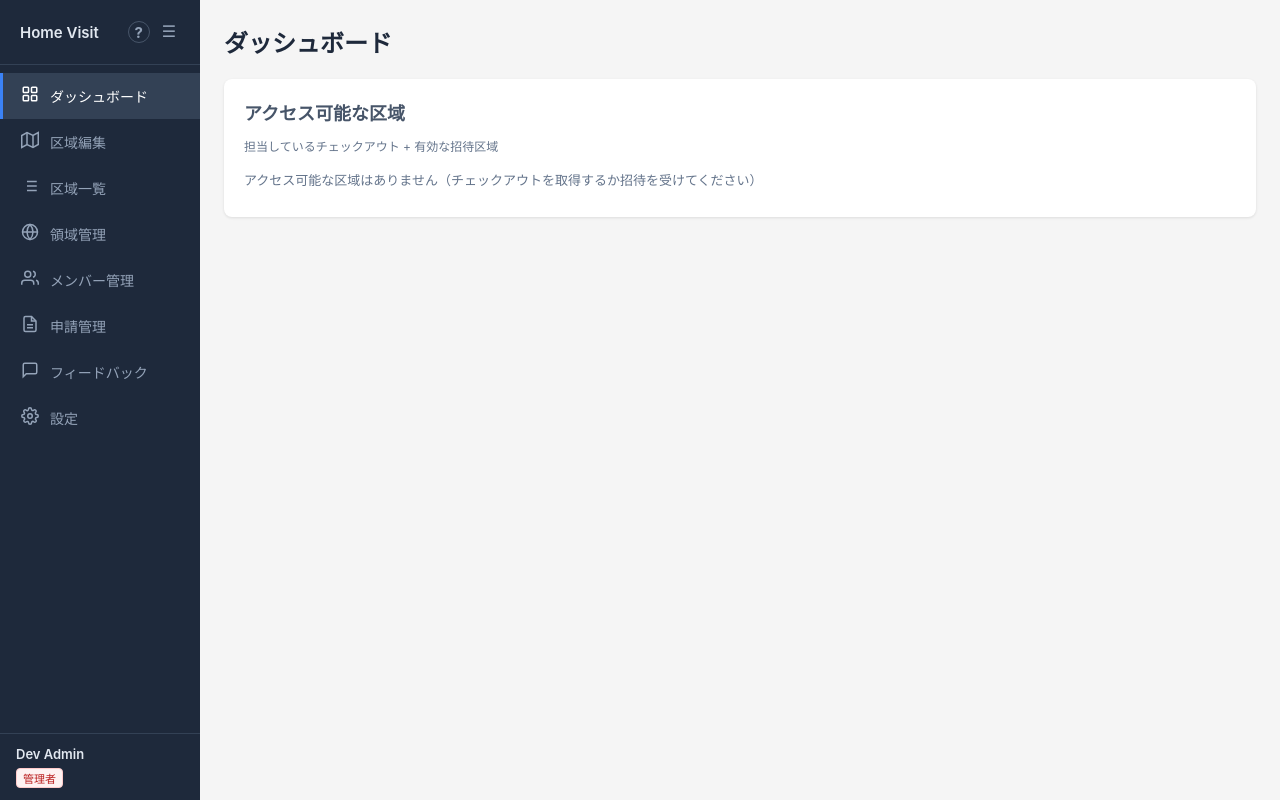
Test case: App › 設定画面でアイデンティティを member に切替えるとメニューが絞られる
Click the link "設定" at (50, 417), box left=21, top=407, right=78, bottom=427
(page scrolled)
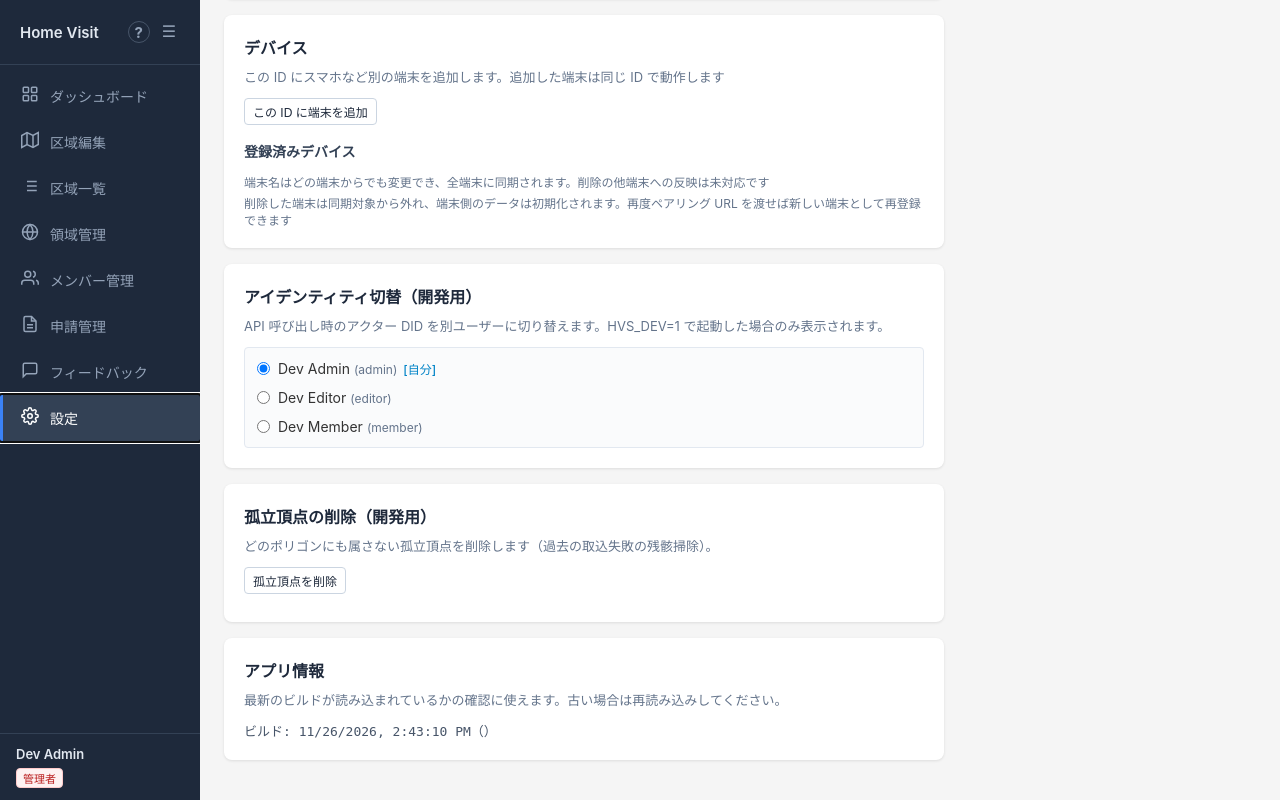
Click the radio button labelled "Dev Member(member)" at (264, 426), box left=257, top=420, right=270, bottom=433
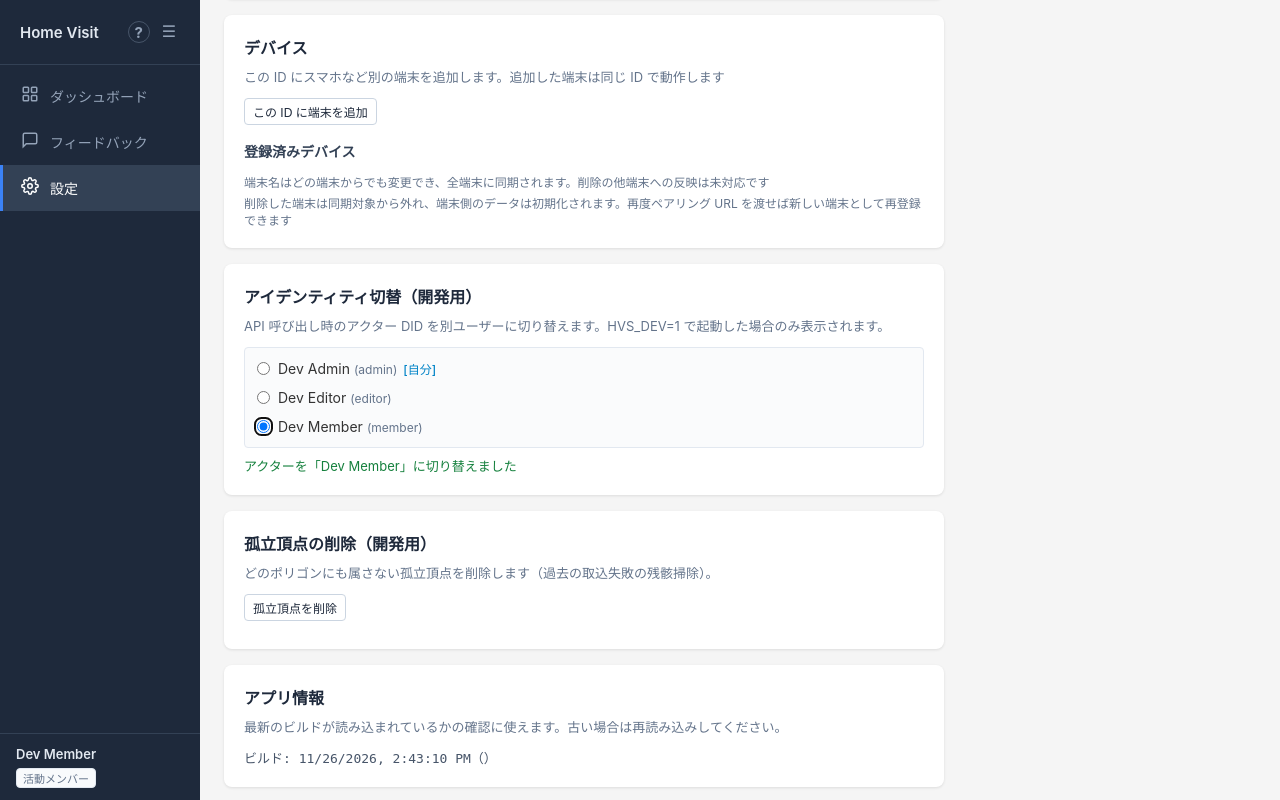
Expected: the link "メンバー管理" is gone
